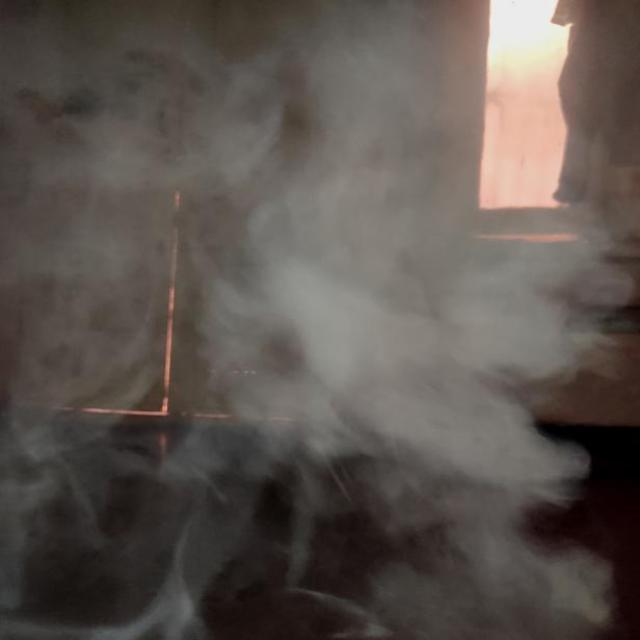fire: (0, 9, 623, 639)
